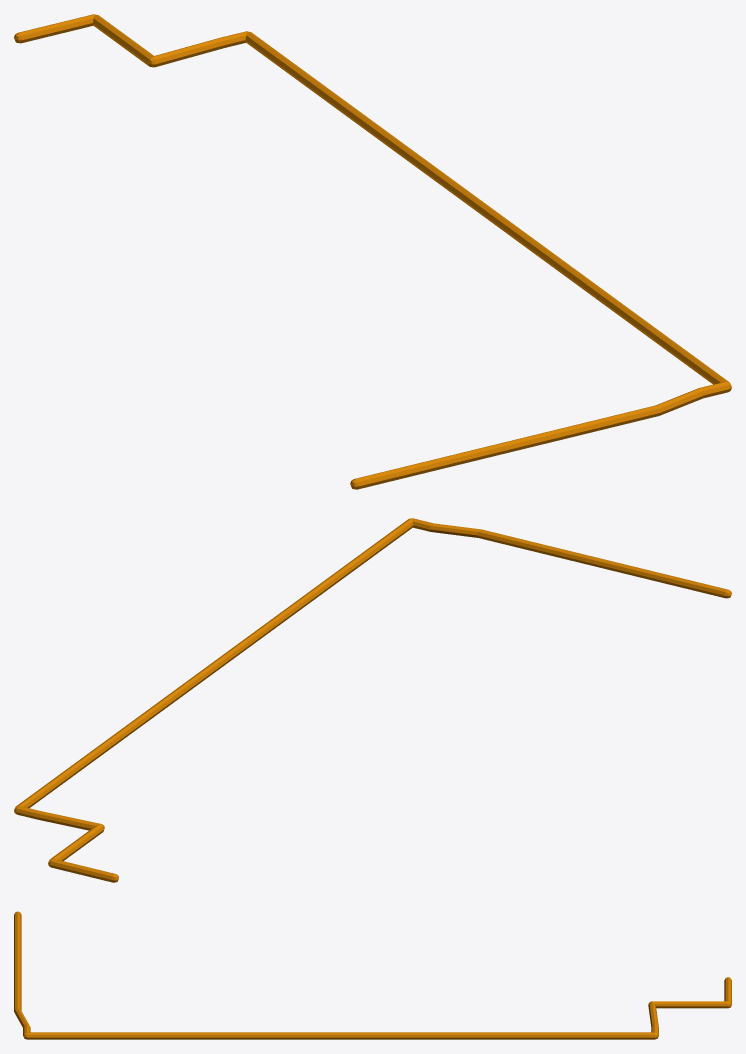
The picture shows the model from 3 angles, top to bottom: view 1: azimuth 30°, elevation 25°; view 2: azimuth 150°, elevation 25°; view 3: azimuth 270°, elevation 25°; orthographic projection. The views are drawn at different scales.
Bounding box in the file's own units: 771 × 20 × 1886.
